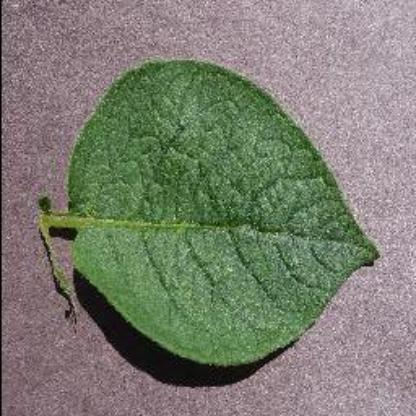Healthy-plant: (46, 44, 385, 372)
